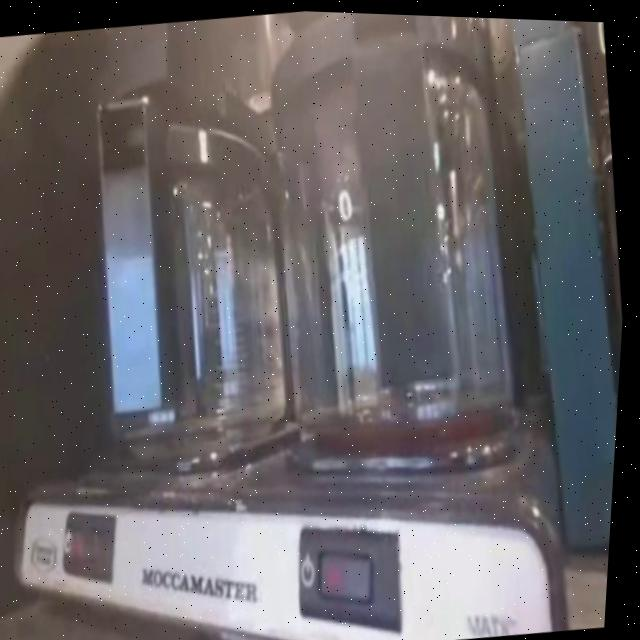nocoffee: (255, 64, 562, 465), (77, 142, 313, 500)
